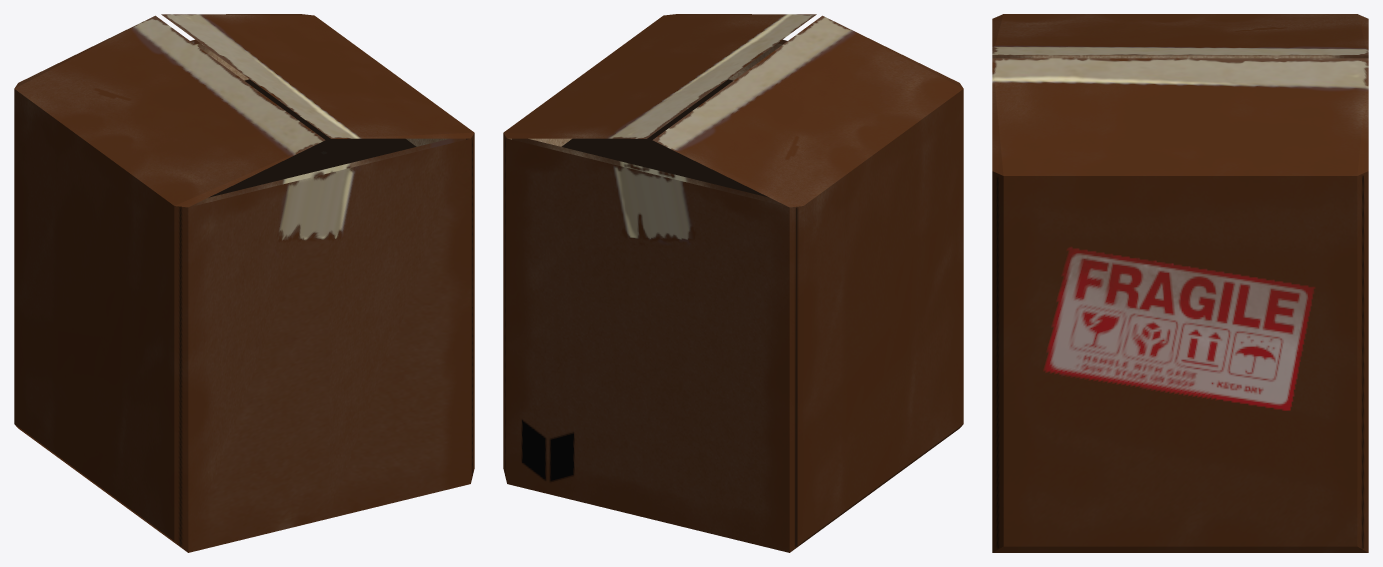
The model's file is boxOpenedNOTape.fbx.
3 views of the same model, side by side, from view 1: azimuth 30°, elevation 25°; view 2: azimuth 150°, elevation 25°; view 3: azimuth 270°, elevation 25° (orthographic). The views are drawn at different scales.
Parts seen in each view (by area): view 1: Box_Opened_Taped; view 2: Box_Opened_Taped; view 3: Box_Opened_Taped.
Boxes of the visible parts, box(x1,y1,x2,y2) form: Box_Opened_Taped: box(14, 14, 474, 552); Box_Opened_Taped: box(503, 14, 963, 552); Box_Opened_Taped: box(992, 14, 1368, 552).
Bounding box in the file's own units: 89.61 × 108 × 87.94.
